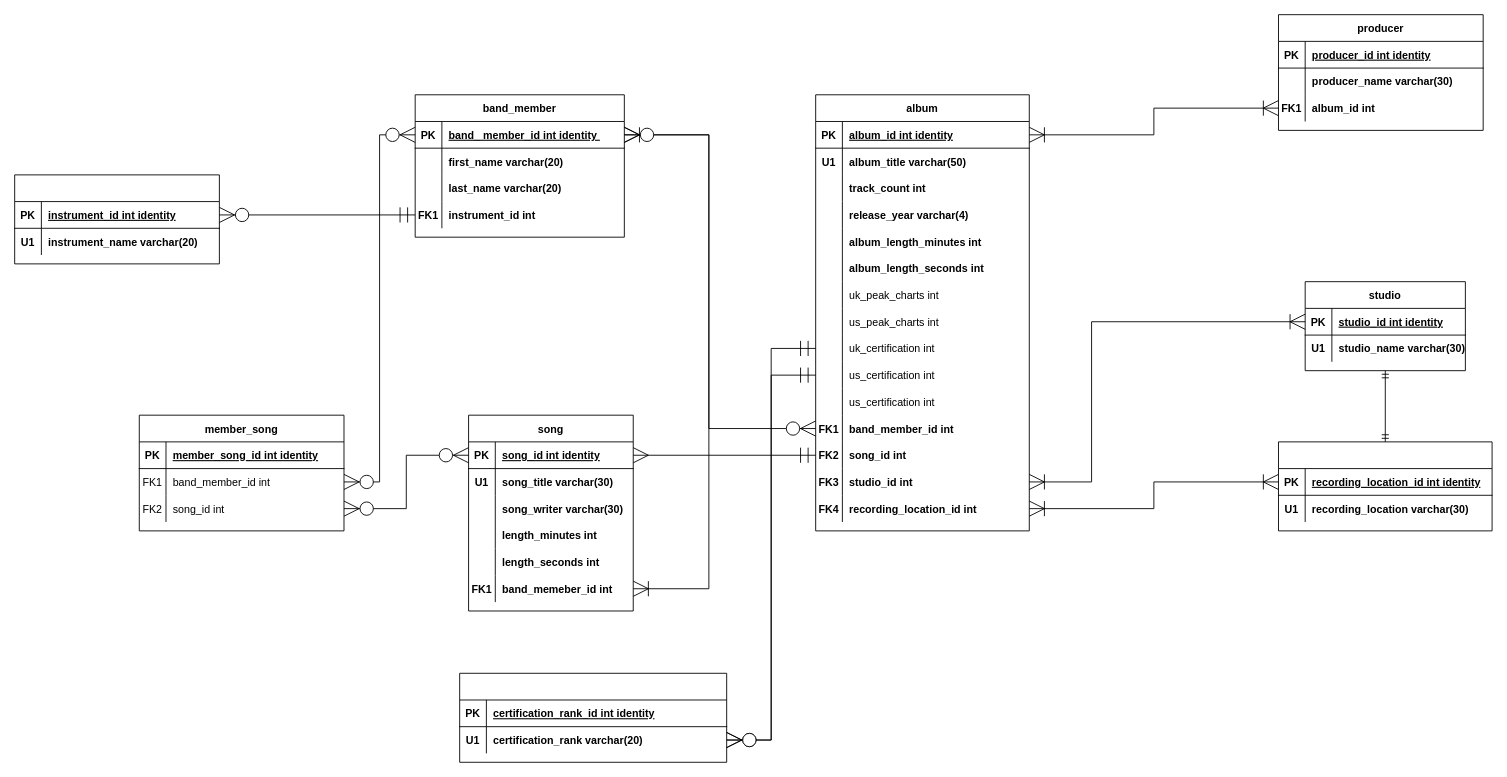
Some shapes in this 1507 by 777 pixel diagram are drawn without their labels. Each missing label, with the box of its shape:
certification_rank_list: (459, 672, 727, 762)
instrument_list: (14, 174, 219, 264)
recording_locations: (1278, 441, 1492, 531)
